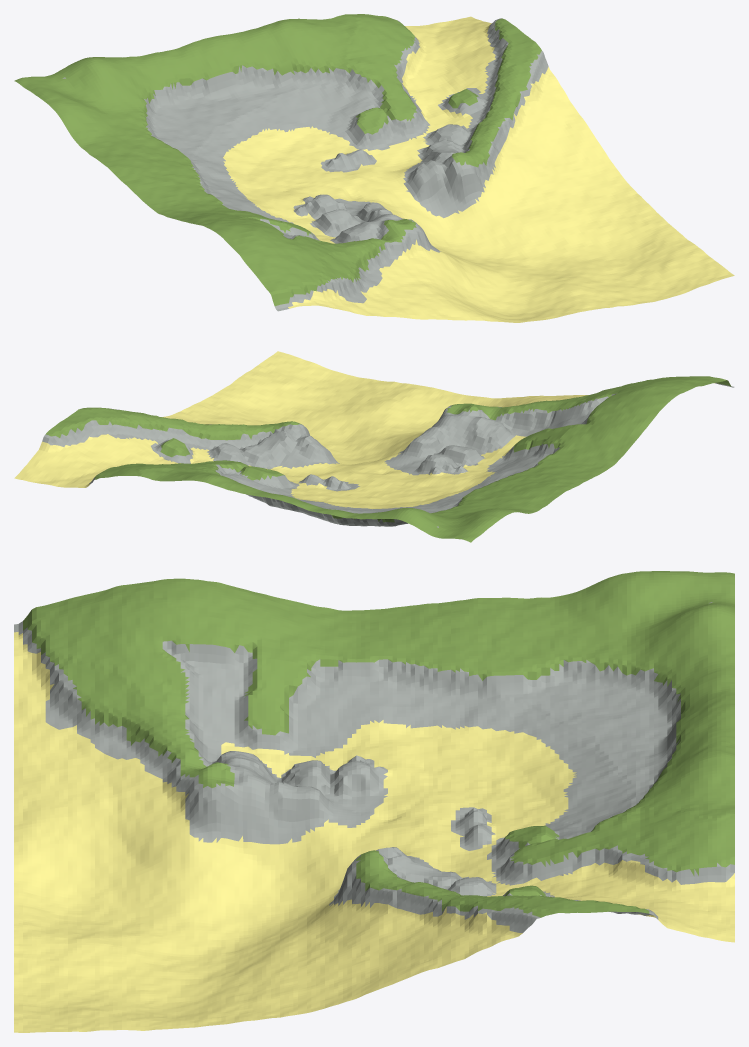
Rendered from CoveTerrain_v2.fbx.
3 views of the same model, one above another, from view 1: azimuth 30°, elevation 25°; view 2: azimuth 150°, elevation 25°; view 3: azimuth 270°, elevation 25° (orthographic). The views are drawn at different scales.
Parts seen in each view (by area): view 1: cove; view 2: cove; view 3: cove.
Boxes of the visible parts, x1,y1,x2,y2 form: cove: [14, 14, 734, 322]; cove: [14, 351, 734, 542]; cove: [14, 571, 734, 1032].
Size of the model in its own units: 1 by 0.2748 by 1.
